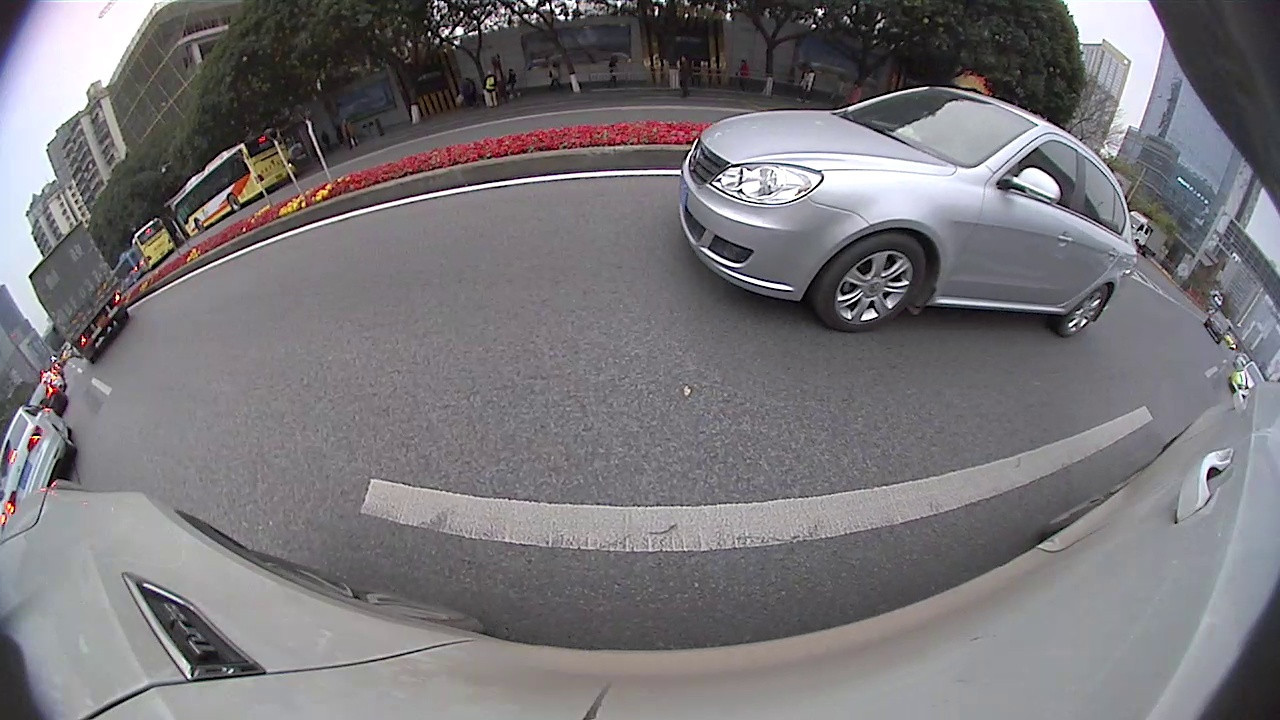bus: (169, 129, 296, 241), (126, 216, 178, 276)
car: (682, 84, 1141, 342), (2, 401, 78, 528), (30, 382, 69, 422), (1232, 361, 1267, 400), (1203, 308, 1233, 343)
front: (805, 227, 930, 335)
rear: (1052, 278, 1113, 338), (55, 427, 78, 453), (223, 192, 242, 214)
truck: (24, 217, 130, 368), (1132, 212, 1172, 260)
